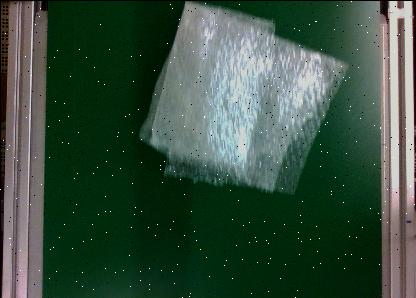Others: (138, 0, 348, 194)
